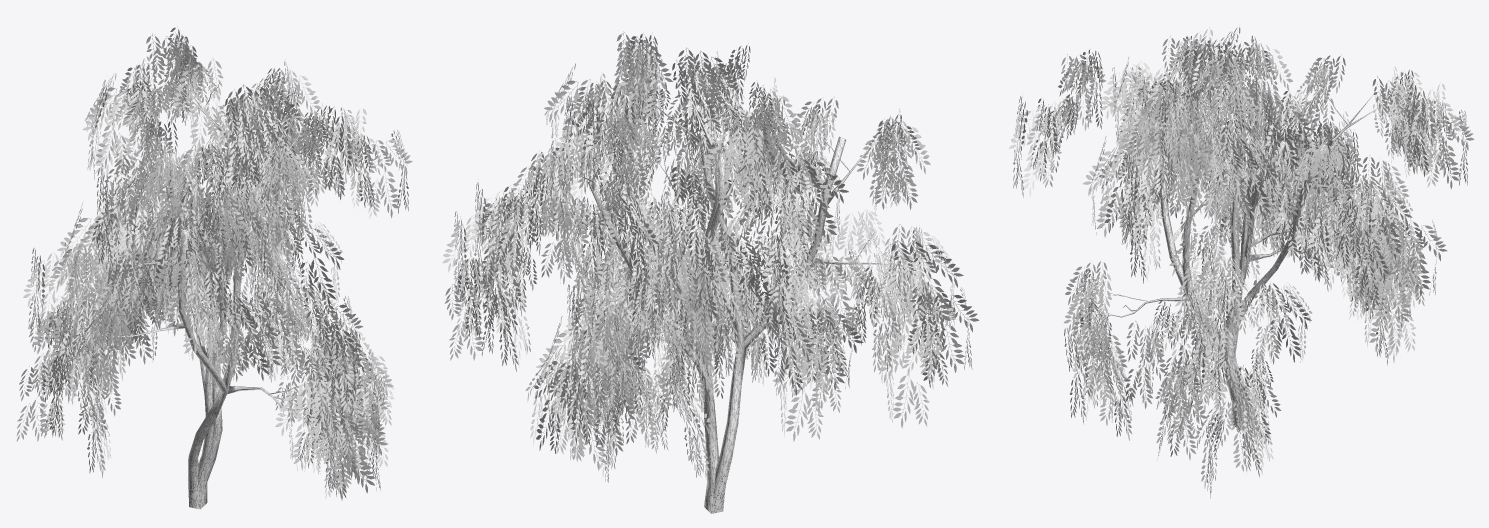
The model's file is Tree_Blender_013_Willow.fbx.
The picture shows the model from 3 angles, left to right: view 1: azimuth 30°, elevation 25°; view 2: azimuth 150°, elevation 25°; view 3: azimuth 270°, elevation 25°; orthographic projection. The views are drawn at different scales.
Visible parts, largest first — view 1: leafclumpatlas_willow_1, pinebarktextureseamless_0; view 2: leafclumpatlas_willow_1, pinebarktextureseamless_0; view 3: leafclumpatlas_willow_1, pinebarktextureseamless_0.
Part boxes in pixels (x1,y1,x2,y2): leafclumpatlas_willow_1: (16, 27, 412, 500); pinebarktextureseamless_0: (110, 79, 316, 509); leafclumpatlas_willow_1: (442, 31, 979, 482); pinebarktextureseamless_0: (527, 79, 897, 513); leafclumpatlas_willow_1: (1009, 27, 1474, 498); pinebarktextureseamless_0: (1086, 61, 1382, 430).
Size of the model in its own units: 1311 by 1476 by 1403.
